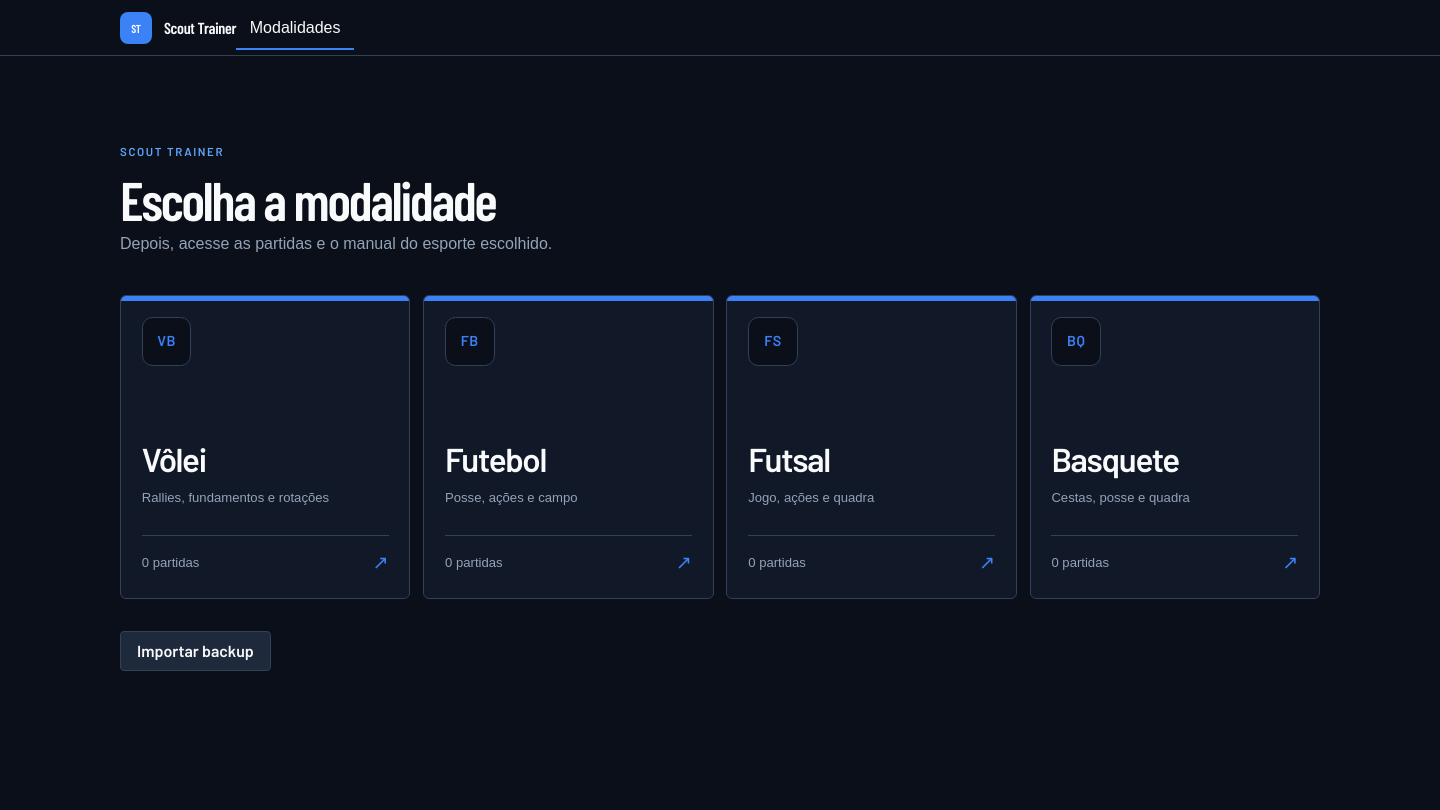
Test: App › shows the sport choices and opens their match area
The width and height of the screenshot is (1440, 810).
expect the heading "Escolha a modalidade" is shown: met, box x1=120 y1=171 x2=552 y2=228
Step 1. Click the button with aria-label "Vôlei: abrir partidas e manual" → {"x": 167, "y": 341}, box x1=120 y1=295 x2=410 y2=599
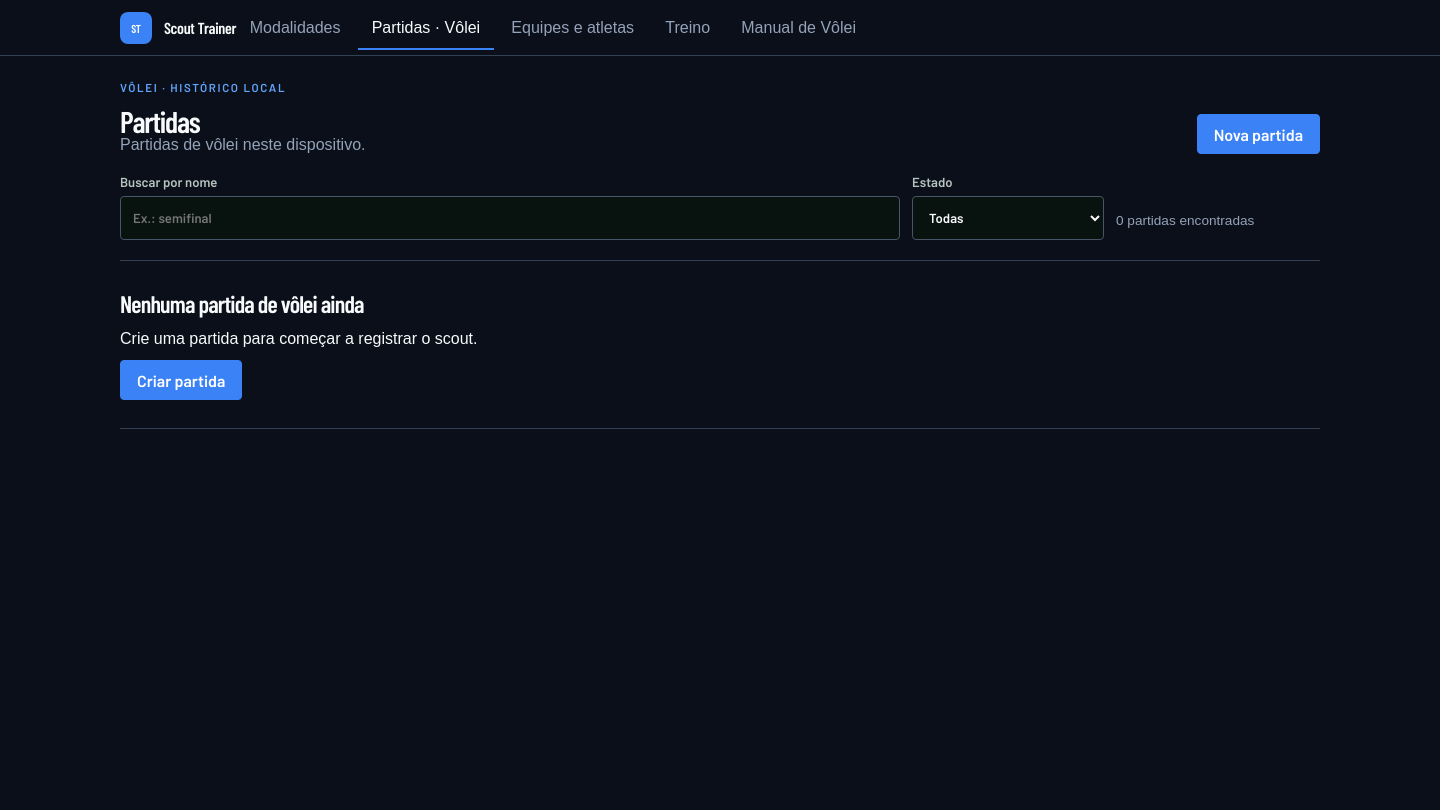
expect the heading "Partidas" is shown: met, box x1=120 y1=103 x2=200 y2=139
expect the button "Nova partida" is shown: met, box x1=1197 y1=114 x2=1320 y2=154
